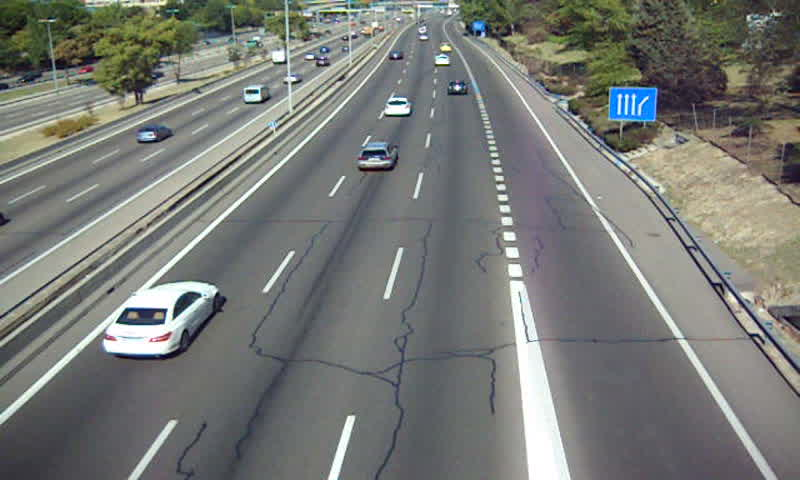car: (102, 280, 226, 356), (357, 140, 399, 168), (385, 97, 412, 117), (446, 80, 465, 96)
